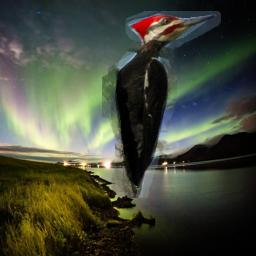Woodpecker: (102, 11, 221, 198)
